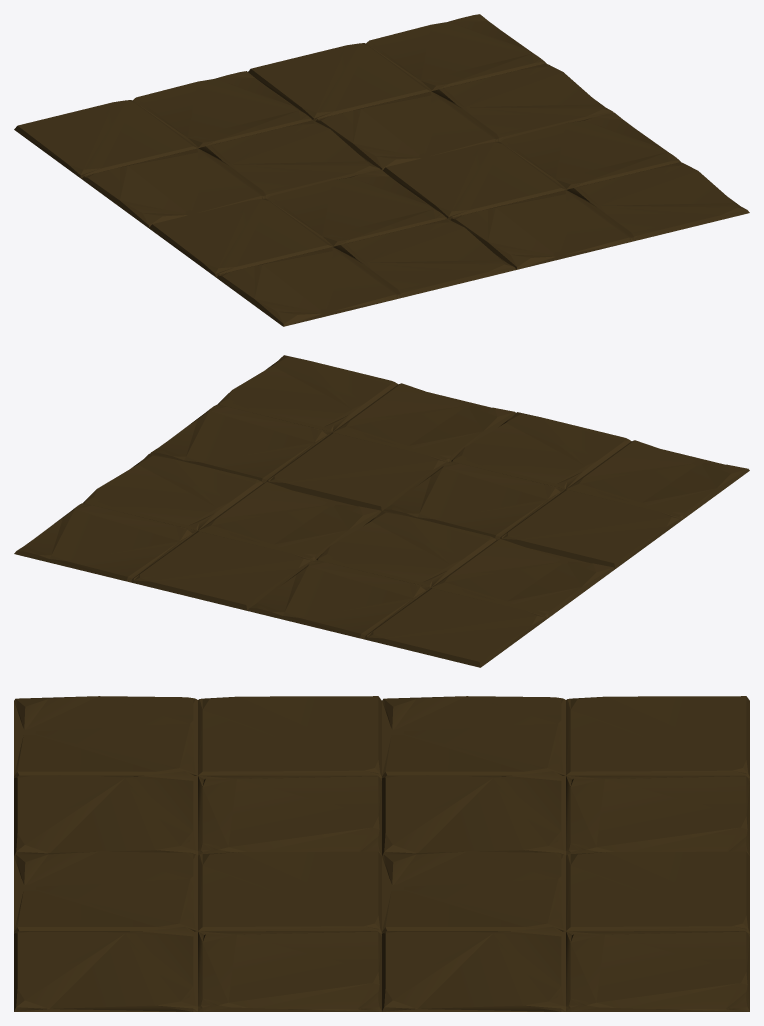
File: floor tile set.fbx
3 renders of one model, top to bottom at view 1: azimuth 30°, elevation 25°; view 2: azimuth 150°, elevation 25°; view 3: azimuth 270°, elevation 25°, orthographic. The views are drawn at different scales.
Visible parts, largest first — view 1: floor tile set; view 2: floor tile set; view 3: floor tile set.
Boxes of the visible parts, x1=… form: floor tile set: x1=14, y1=14, x2=749, y2=326; floor tile set: x1=14, y1=355, x2=749, y2=667; floor tile set: x1=14, y1=696, x2=749, y2=1011.
Size of the model in its own units: 500 by 7.41 by 500.
